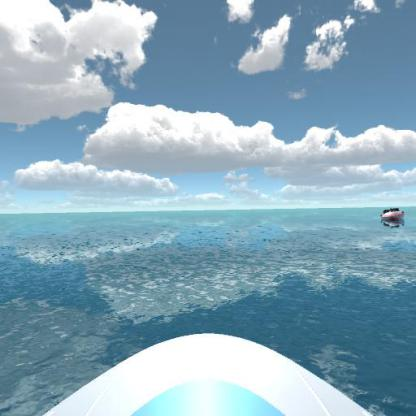usv3: (378, 204, 408, 228)
